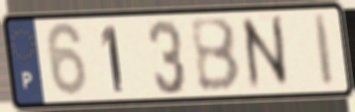1: (99, 24, 125, 95)
3: (146, 16, 187, 97)
6: (43, 19, 93, 101)
B: (187, 15, 243, 94)
I: (311, 11, 337, 89)
N: (237, 12, 294, 94)
